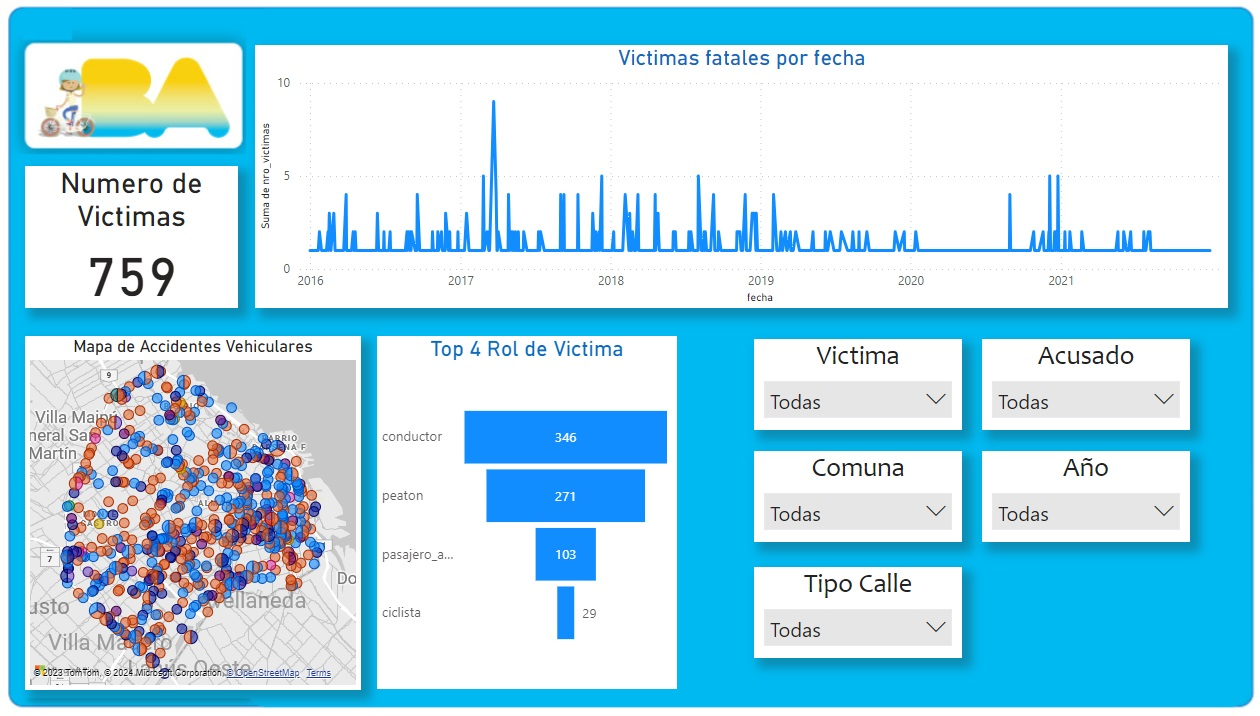

The page's visual inventory and layout, read from the dashboard file:
{"tool":"powerbi","page":{"name":"Accidentes 2","canvas":[1280,720],"ordinal":1},"visuals":[{"type":"image","box":[9.7,0,1270.3,719.8],"z":0},{"type":"map","title":"Mapa de Accidentes Vehiculares","fields":{"Category":["homicidios_cleaned.longitud"],"Y":["Min(homicidios_cleaned.latitud)"],"X":["Min(homicidios_cleaned.longitud)"],"Series":["homicidios_cleaned.vehiculo_victima"],"Size":["Count(homicidios_cleaned.nro_victimas)"]},"box":[41.8,339.5,336.5,353.1],"z":1000},{"type":"lineChart","title":"Victimas fatales por fecha","fields":{"Category":["homicidios_cleaned.fecha.Variación.Jerarquía de fechas.Año"],"Y":["Sum(homicidios_cleaned.nro_victimas)"]},"box":[272,48,973,263],"z":2000},{"type":"card","title":"Numero de Victimas","fields":{"Values":["Sum(homicidios_cleaned.nro_victimas)"]},"box":[42,169,213,142],"z":3000},{"type":"funnel","title":"Top 4 Rol de Victima","fields":{"Category":["homicidios_cleaned.rol"],"Y":["Sum(homicidios_cleaned.nro_victimas)"]},"box":[394,339,300,353],"z":4000},{"type":"slicer","title":"Victima","fields":{"Values":["homicidios_cleaned.vehiculo_victima"]},"box":[771.3,341.8,208.1,91.4],"z":5000},{"type":"slicer","title":"Acusado","fields":{"Values":["homicidios_cleaned.vehiculo_acusado"]},"box":[998.9,341.8,208.1,91.4],"z":6000},{"type":"slicer","title":"Comuna","fields":{"Values":["homicidios_cleaned.comuna"]},"box":[771.3,453.6,208.1,91.4],"z":7000},{"type":"slicer","title":"Año","fields":{"Values":["Calendario.Column1.Variación.Jerarquía de fechas.Año"]},"box":[998.9,453.6,208.1,91.4],"z":8000},{"type":"slicer","title":"Tipo Calle","fields":{"Values":["homicidios_cleaned.tipo_calle"]},"box":[771,570,208,91],"z":9000}]}

Visuals, with their boxes in screenshot pixels (x1, y1, x2, y2), scaled from the page's 1280x720 canvas onto the 1260x716 screenshot:
image: <box>10,0,1259,715</box>
"Mapa de Accidentes Vehiculares" map: <box>41,338,372,689</box>
"Victimas fatales por fecha" lineChart: <box>268,48,1226,309</box>
"Numero de Victimas" card: <box>41,168,251,309</box>
"Top 4 Rol de Victima" funnel: <box>388,337,683,688</box>
"Victima" slicer: <box>759,340,964,431</box>
"Acusado" slicer: <box>983,340,1188,431</box>
"Comuna" slicer: <box>759,451,964,542</box>
"Año" slicer: <box>983,451,1188,542</box>
"Tipo Calle" slicer: <box>759,567,964,657</box>
